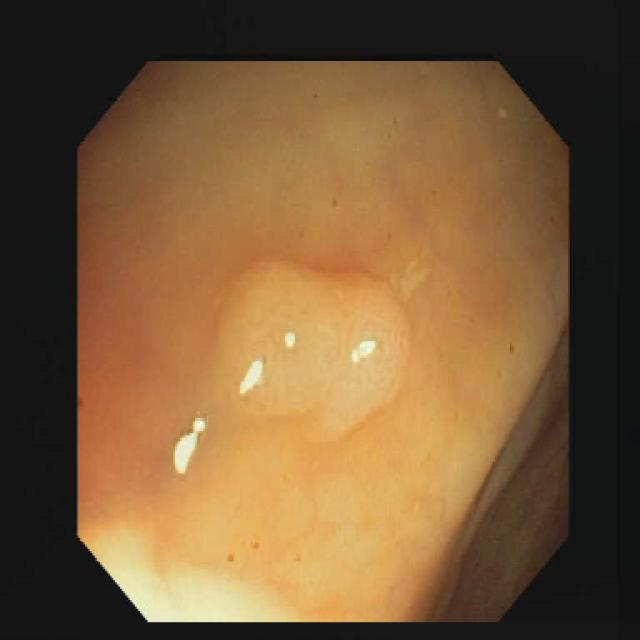tumor: (202, 256, 412, 440)
